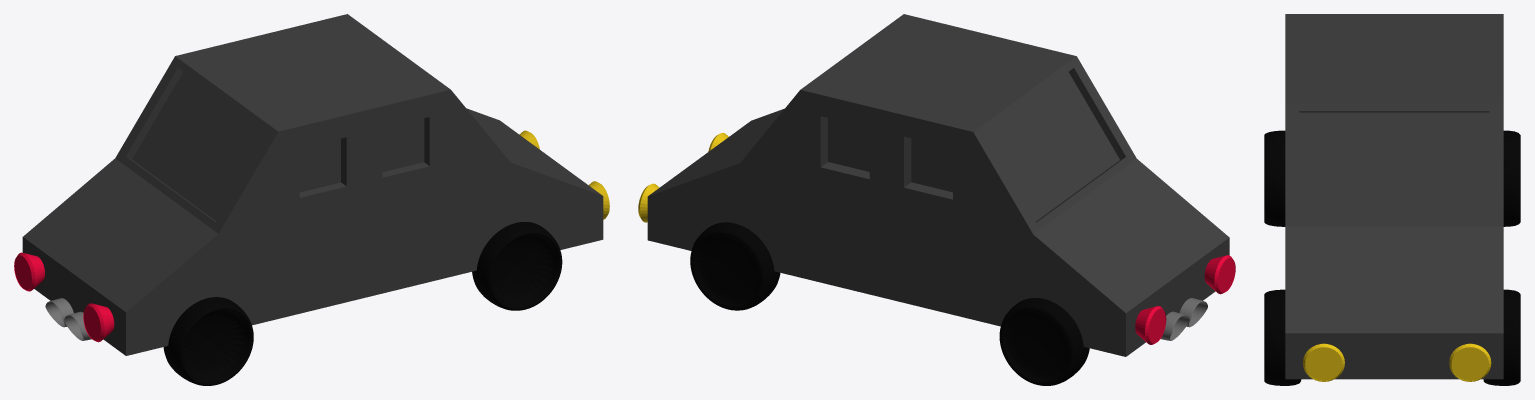
The model's file is car.glb.
3 renders of one model, left to right at view 1: azimuth 30°, elevation 25°; view 2: azimuth 150°, elevation 25°; view 3: azimuth 270°, elevation 25°, orthographic. The views are drawn at different scales.
Visible parts, largest first — view 1: car_body, tiresBR, tiresVR, lightsB, exhaust; view 2: car_body, tiresVL, tiresBL, lightsB, exhaust, lightsV; view 3: car_body, lightsV, tiresVR, tiresBR, tiresVL, tiresBL.
Part boxes in pixels (left/top/right/bottom): car_body: left=22, top=14, right=603, bottom=355; tiresBR: left=163, top=297, right=253, bottom=385; tiresVR: left=472, top=221, right=562, bottom=310; lightsB: left=14, top=252, right=114, bottom=342; exhaust: left=45, top=298, right=91, bottom=340; car_body: left=647, top=14, right=1229, bottom=356; tiresVL: left=690, top=222, right=780, bottom=310; tiresBL: left=999, top=298, right=1089, bottom=385; lightsB: left=1135, top=255, right=1235, bottom=344; exhaust: left=1161, top=298, right=1207, bottom=340; lightsV: left=638, top=133, right=728, bottom=222; car_body: left=1285, top=14, right=1503, bottom=379; lightsV: left=1303, top=343, right=1491, bottom=381; tiresVR: left=1264, top=289, right=1301, bottom=385; tiresBR: left=1264, top=130, right=1285, bottom=226; tiresVL: left=1483, top=289, right=1520, bottom=385; tiresBL: left=1503, top=130, right=1520, bottom=226.
Bounding box in the file's own units: 5.69 × 2.47 × 2.35.
